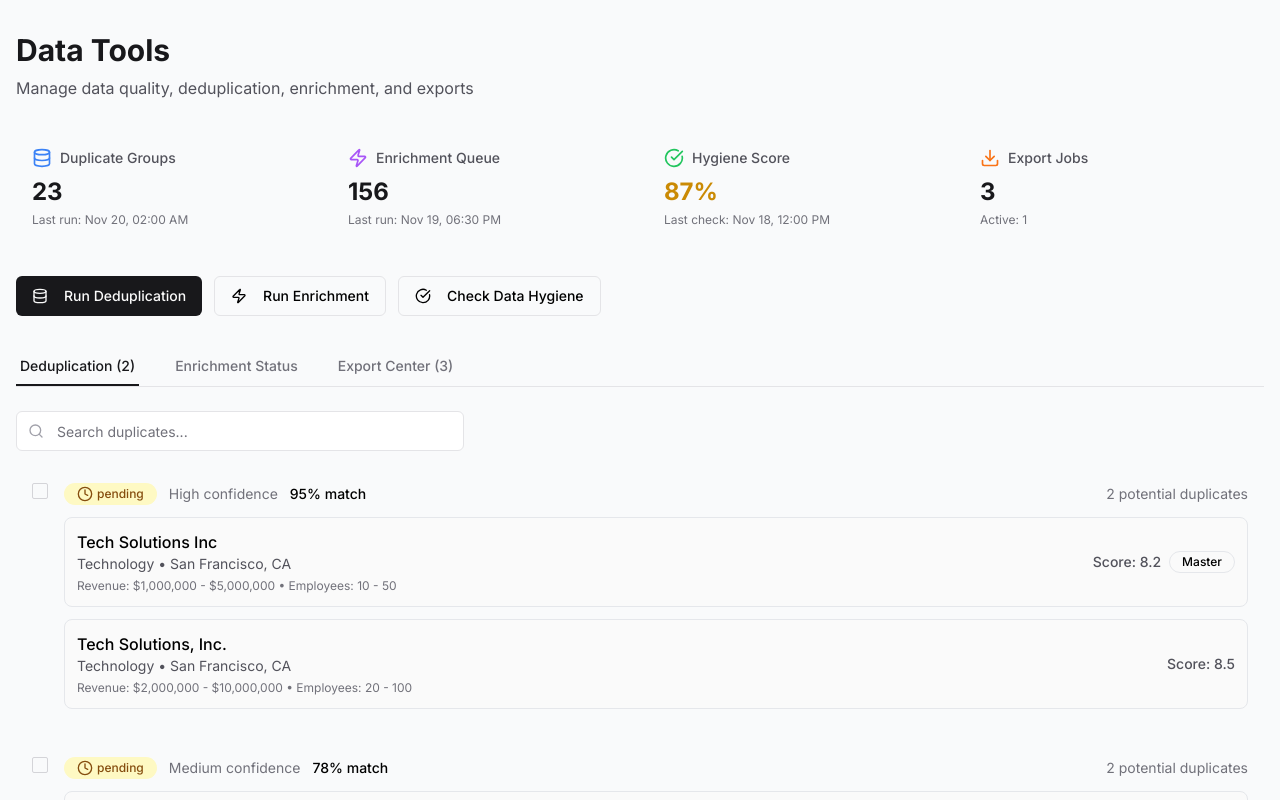
Test: DataToolsPage › allows selecting duplicate groups
The image size is (1280, 800).
Click the checkbox in the row of "High" at (40, 491), box [32, 483, 48, 499]
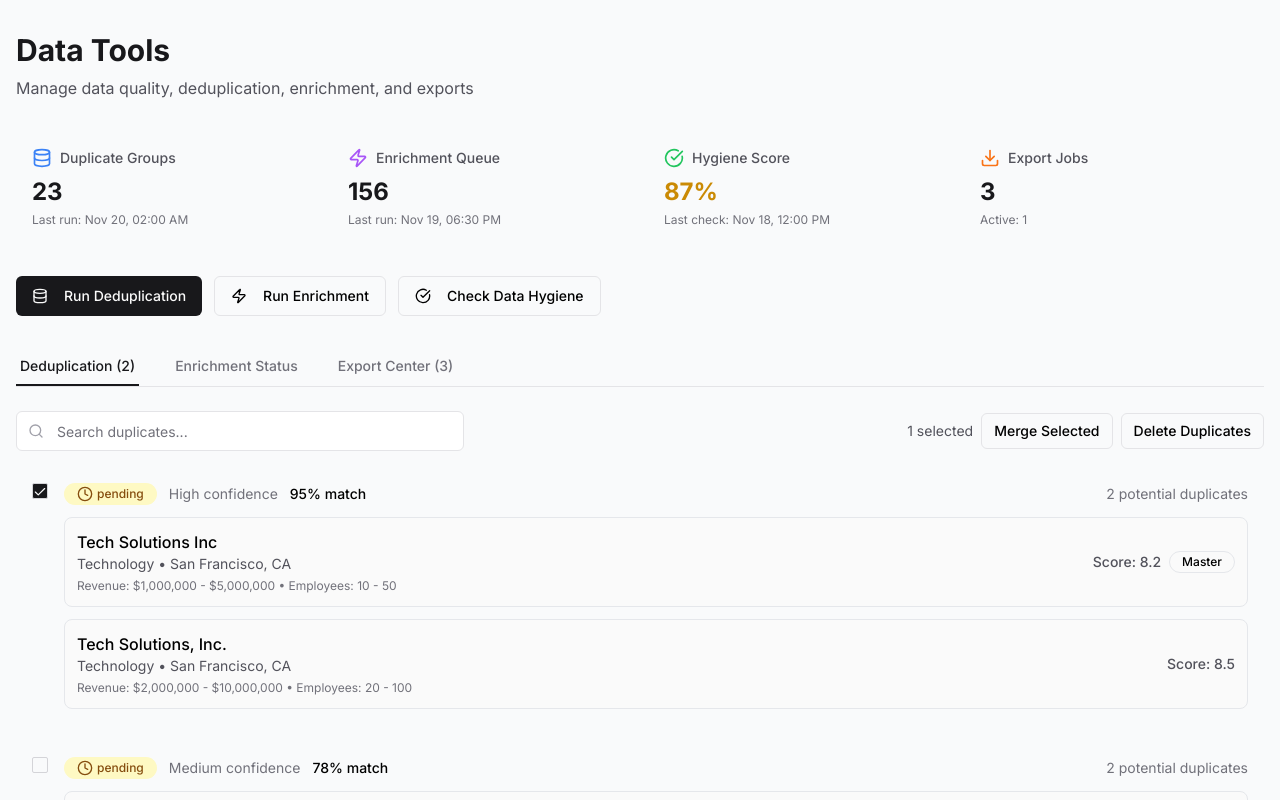
expect the text "1 selected" is shown: met, box [907, 421, 973, 441]
